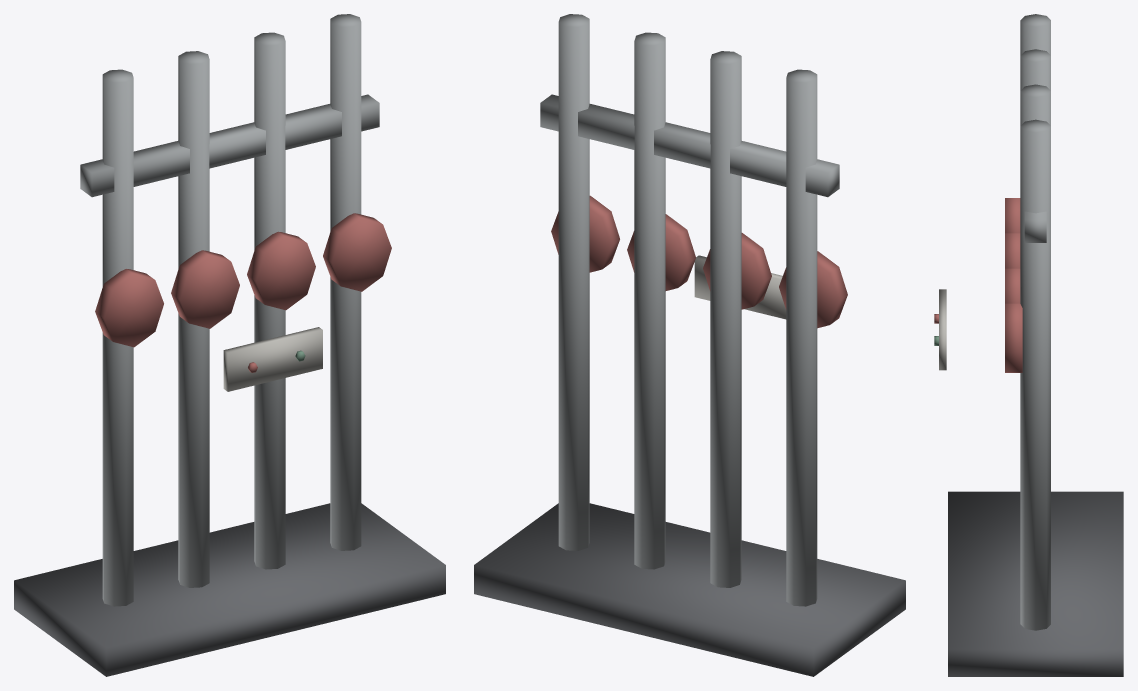
File: steam_manifold__tall.glb
The picture shows the model from 3 angles, left to right: view 1: azimuth 30°, elevation 25°; view 2: azimuth 150°, elevation 25°; view 3: azimuth 270°, elevation 25°; orthographic projection. The views are drawn at different scales.
Visible parts, largest first — view 1: world; view 2: world; view 3: world.
Part boxes in pixels (box(x1,y1,x2,y2)): world: box(14, 14, 445, 676); world: box(474, 14, 905, 676); world: box(934, 14, 1123, 676).
Size of the model in its own units: 0.85 by 1.32 by 0.431.
